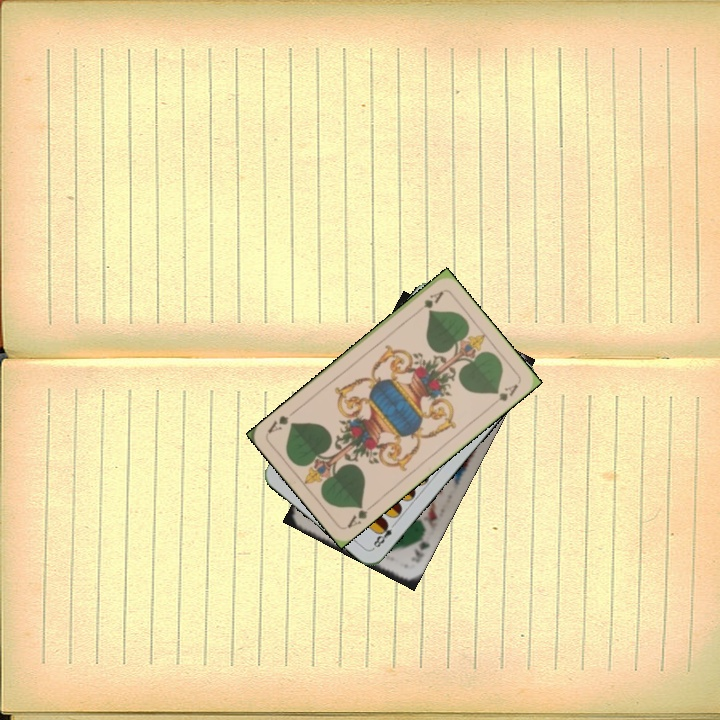E8: (369, 518, 399, 551)
GA: (343, 500, 377, 531), (411, 287, 446, 317)
GK: (407, 531, 432, 565)
